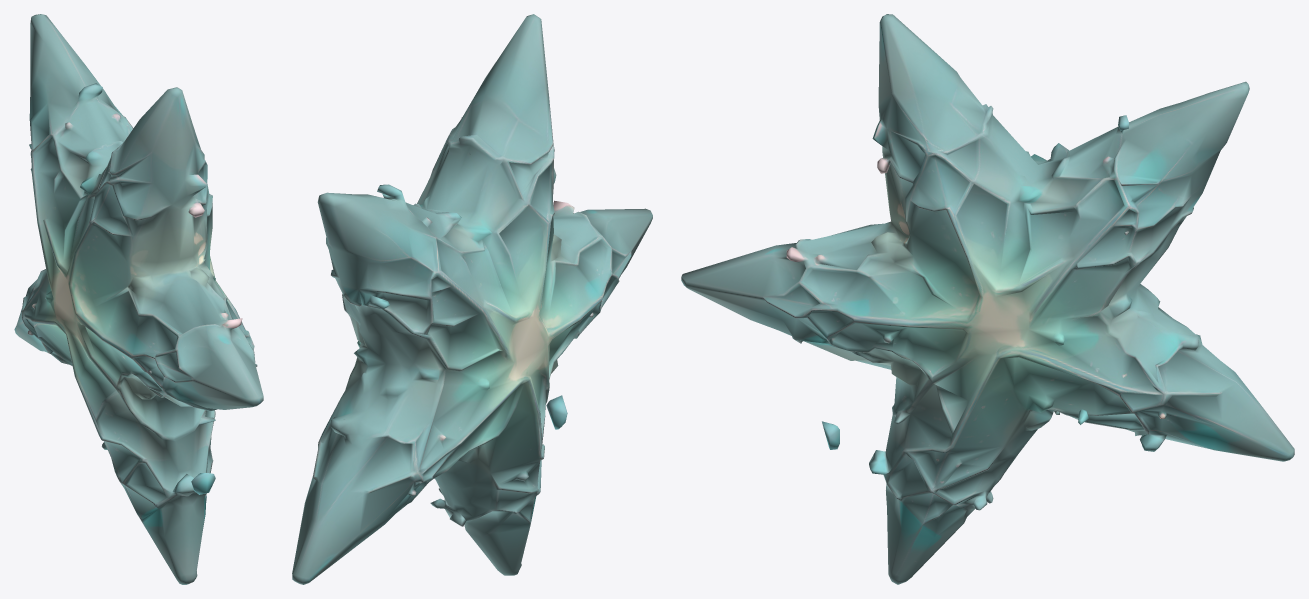
The picture shows the model from 3 angles, left to right: view 1: azimuth 30°, elevation 25°; view 2: azimuth 150°, elevation 25°; view 3: azimuth 270°, elevation 25°; orthographic projection. The views are drawn at different scales.
Parts seen in each view (by area): view 1: tripo_node_719d1e7f-241e-4a08-8dd8-5cb5c8b53be7; view 2: tripo_node_719d1e7f-241e-4a08-8dd8-5cb5c8b53be7; view 3: tripo_node_719d1e7f-241e-4a08-8dd8-5cb5c8b53be7.
Part boxes in pixels (x1,y1,x2,y2): tripo_node_719d1e7f-241e-4a08-8dd8-5cb5c8b53be7: [14, 14, 263, 584]; tripo_node_719d1e7f-241e-4a08-8dd8-5cb5c8b53be7: [292, 14, 652, 584]; tripo_node_719d1e7f-241e-4a08-8dd8-5cb5c8b53be7: [681, 14, 1294, 584].
Size of the model in its own units: 0.2877 by 1 by 0.9922.
1 material, 1 textured.
